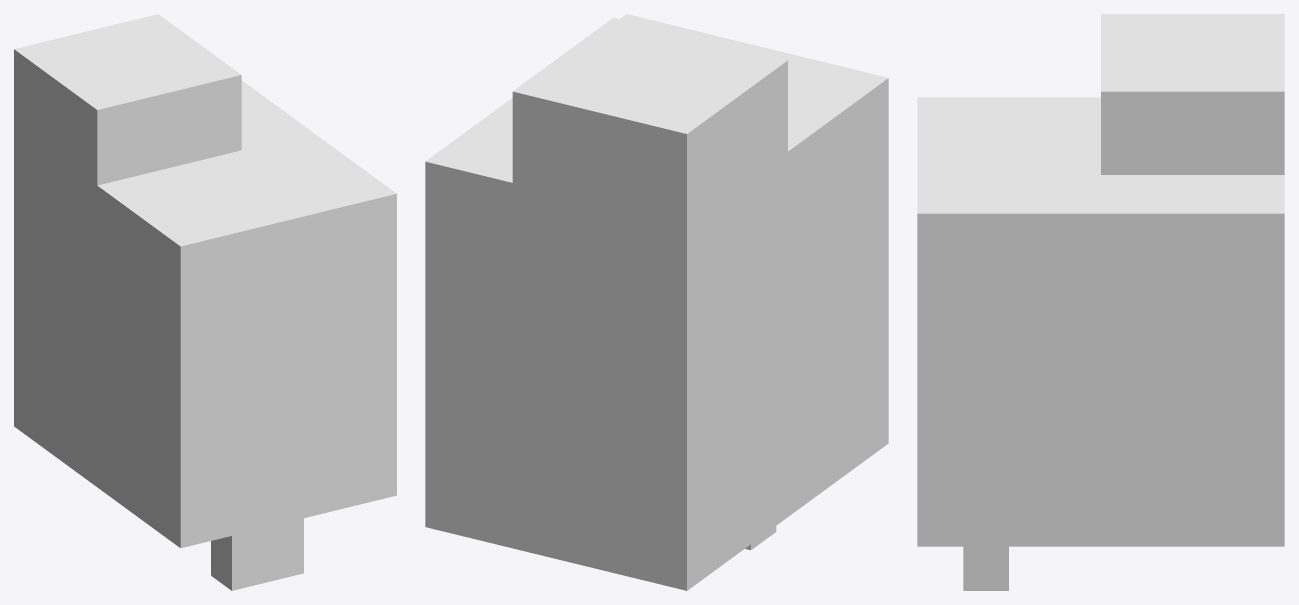
The model's file is PlayerOrange-8-Player_LLeg.obj.
The picture shows the model from 3 angles, left to right: view 1: azimuth 30°, elevation 25°; view 2: azimuth 150°, elevation 25°; view 3: azimuth 270°, elevation 25°; orthographic projection. The views are drawn at different scales.
Parts seen in each view (by area): view 1: Player_LLeg; view 2: Player_LLeg; view 3: Player_LLeg.
Part boxes in pixels (x1,y1,x2,y2): Player_LLeg: (14,14,396,590); Player_LLeg: (425,14,888,590); Player_LLeg: (917,14,1284,590).
Bounding box in the file's own units: 0.6 × 1.2 × 0.8.
Materials: 1 (1 with a texture image).
